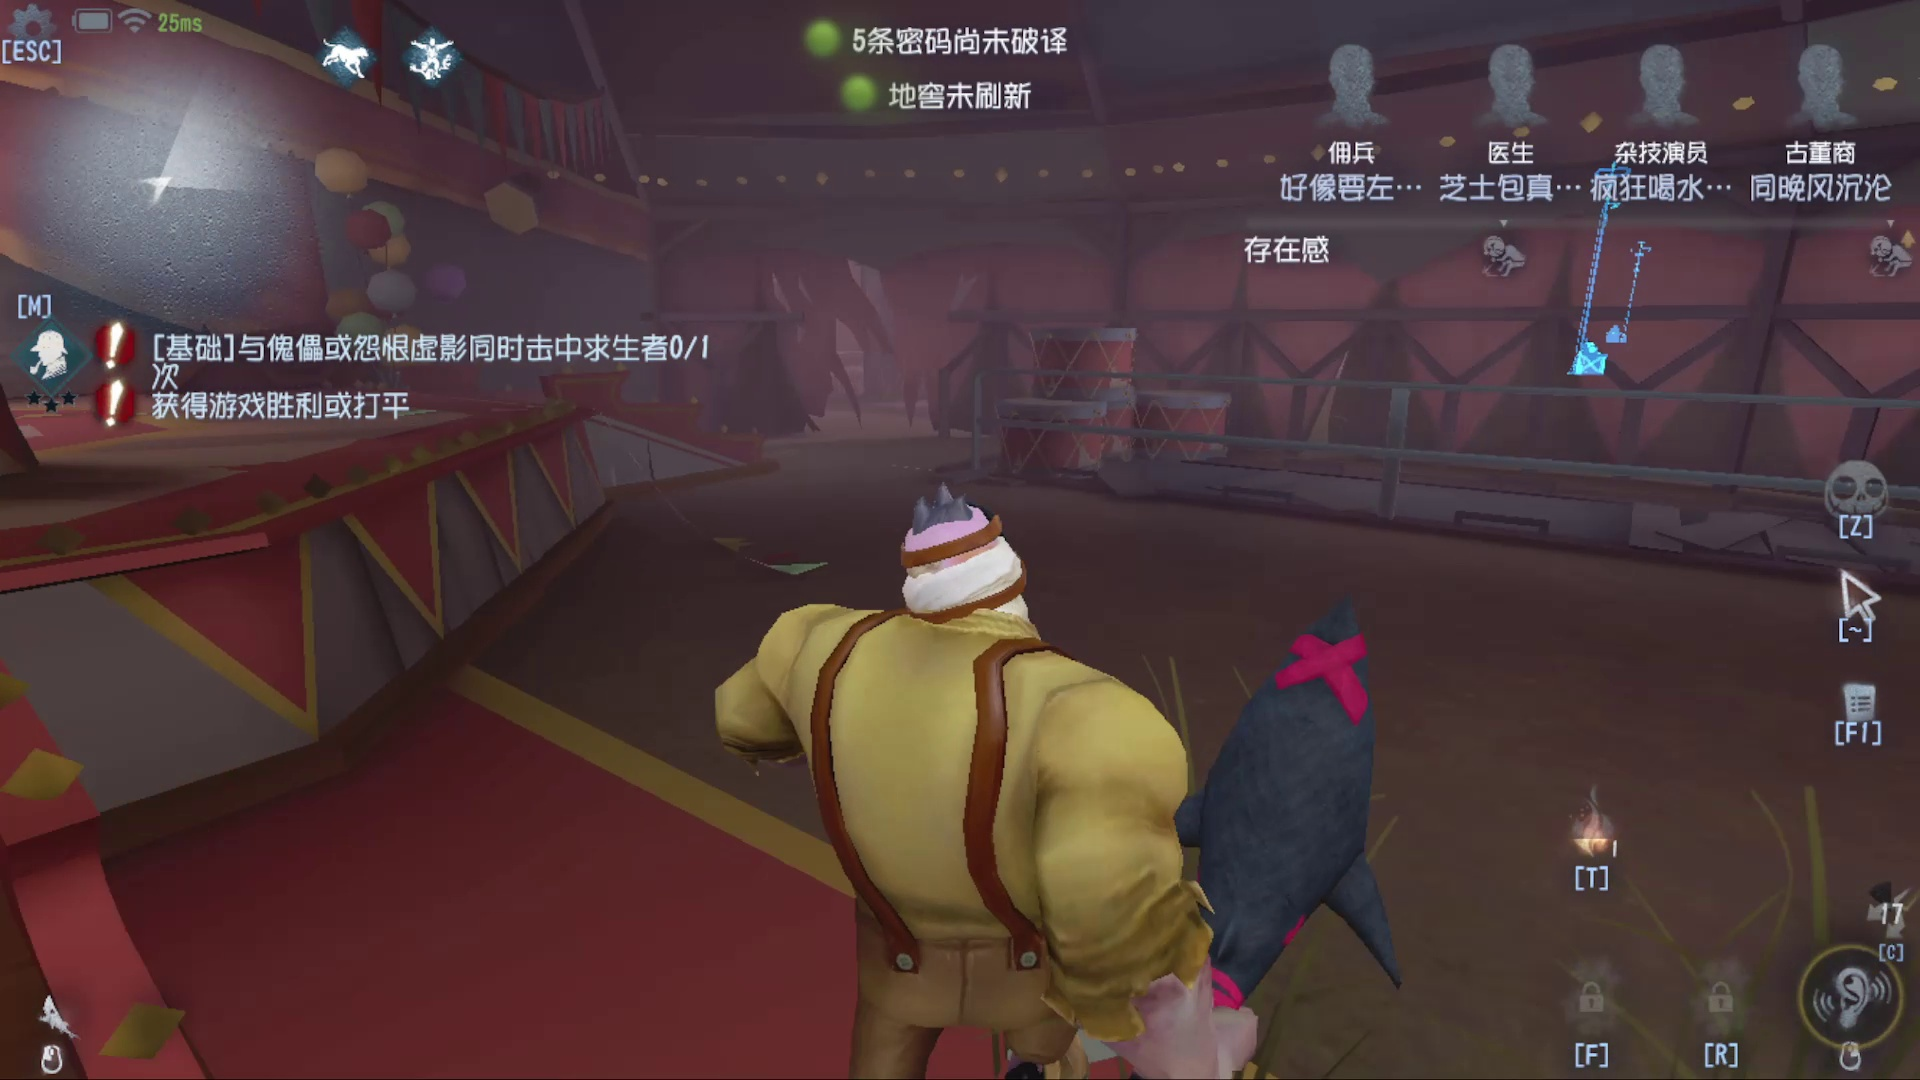密码机: (1524, 161, 1672, 388)
